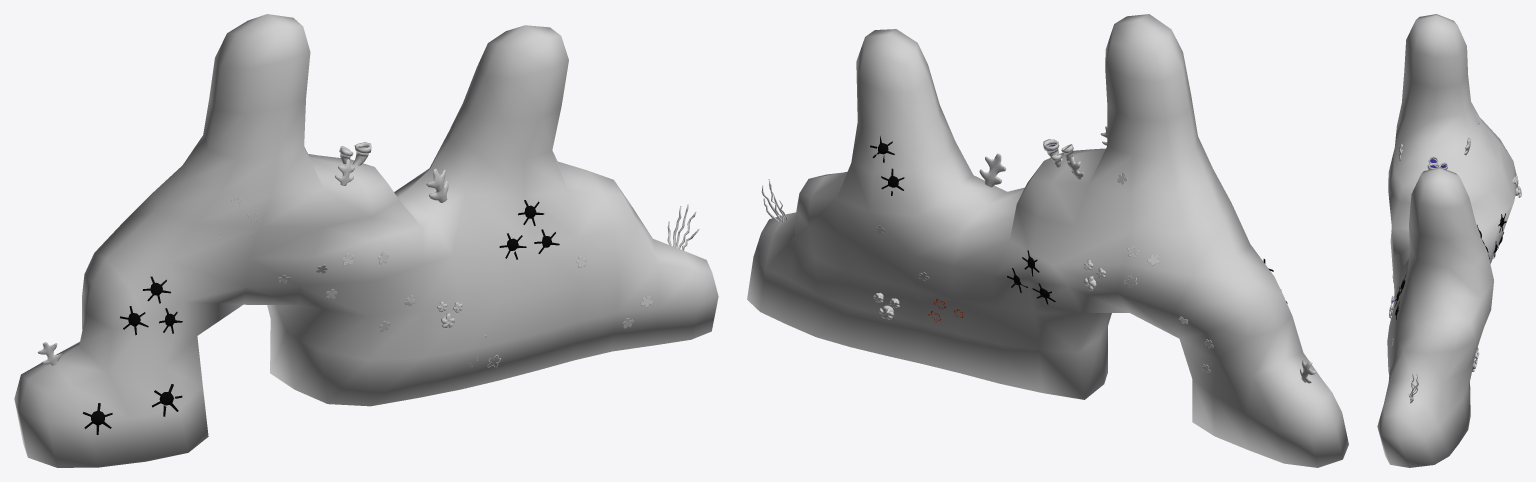
File: big_coral_1.obj
The picture shows the model from 3 angles, left to right: view 1: azimuth 30°, elevation 25°; view 2: azimuth 150°, elevation 25°; view 3: azimuth 270°, elevation 25°; orthographic projection. The views are drawn at different scales.
Parts seen in each view (by area): view 1: BigRock.002; view 2: BigRock.002; view 3: BigRock.002.
Part boxes in pixels (left/top/right/bottom): BigRock.002: left=14, top=14, right=718, bottom=467; BigRock.002: left=747, top=14, right=1348, bottom=467; BigRock.002: left=1377, top=14, right=1521, bottom=467.
Size of the model in its own units: 32.23 by 18.82 by 8.24.
13 materials, 4 textured.
